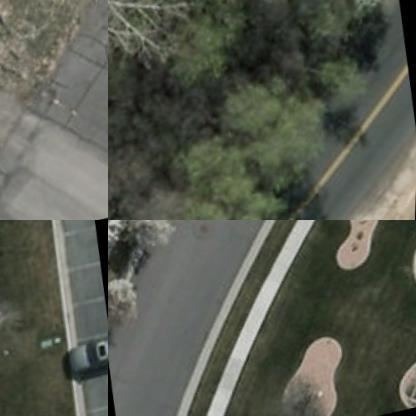car: (65, 342, 107, 380)
